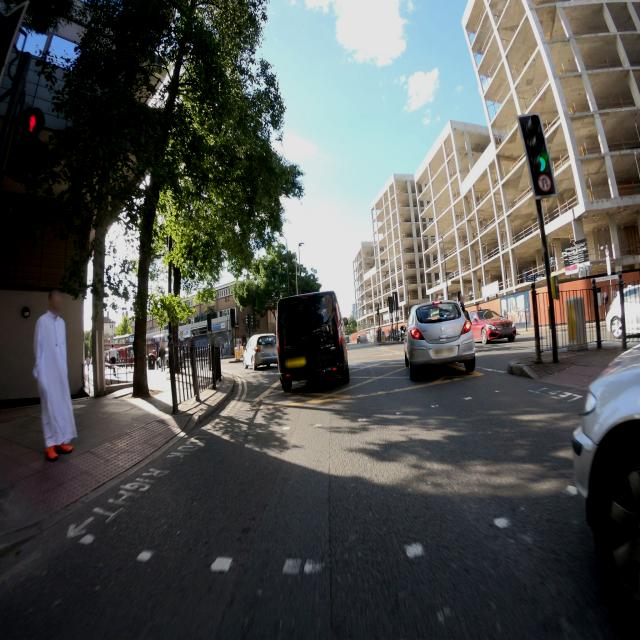car: (569, 308, 640, 640), (277, 291, 350, 391), (403, 299, 476, 380), (604, 280, 640, 342), (467, 308, 516, 344), (243, 332, 279, 370), (356, 330, 368, 344)
